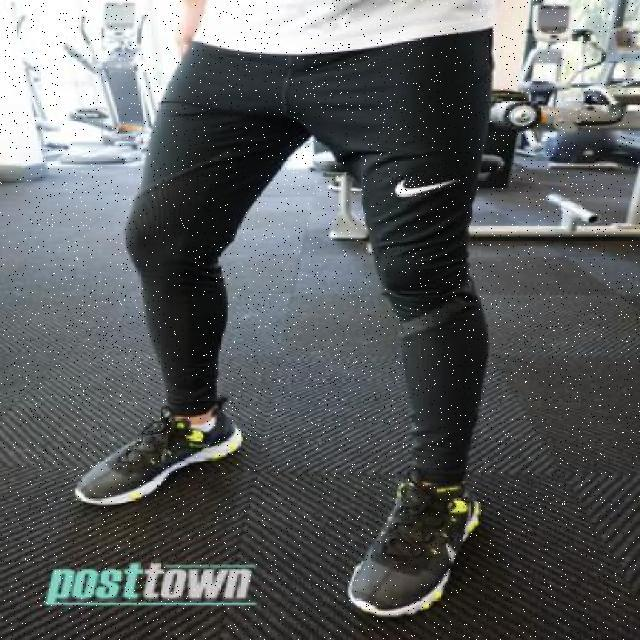Nike: (392, 176, 456, 196)
